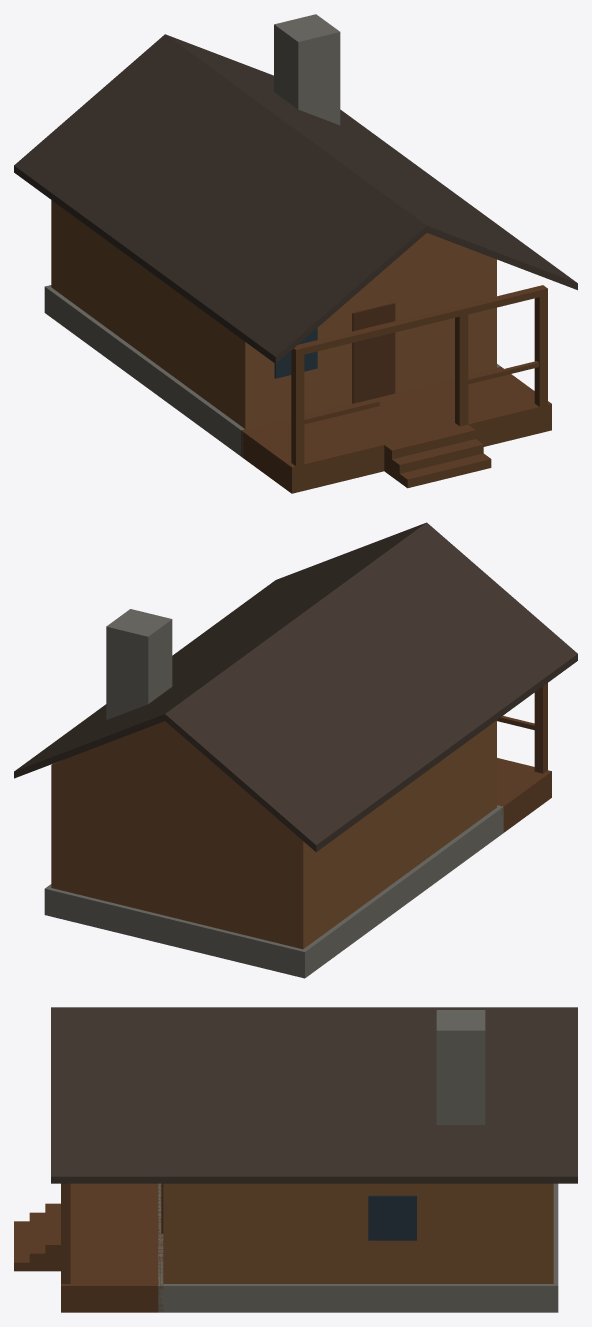
File: wp-cabin.glb
3 views of the same model, one above another, from view 1: azimuth 30°, elevation 25°; view 2: azimuth 150°, elevation 25°; view 3: azimuth 270°, elevation 25° (orthographic).
Parts seen in each view (by area): view 1: Roof, Walls, Porch, Base, Chimney, Door, PorchBeam, Step0, PorchPost0, Step1, PorchPost1, PorchPost2 (+3 smaller); view 2: Roof, Walls, Base, GableBack, Chimney, Porch, PorchPost0; view 3: Roof, Walls, Base, Porch, Chimney, WindowSide, Step0, Step1, PorchPost2, Step2.
Boxes of the visible parts, x1,y1,x2,y2 form: Roof: (14,34,577,363); Walls: (51,200,496,428); Porch: (241,367,551,493); Base: (44,285,500,457); Chimney: (274,14,340,125); Door: (352,303,395,403); PorchBeam: (291,285,547,356); Step0: (384,424,475,476); PorchPost0: (291,344,304,466); Step1: (384,439,483,482); PorchPost1: (455,306,468,426); PorchPost2: (534,285,547,406); Roof: (14,522,577,852); Walls: (51,720,496,949); Base: (44,805,503,978); GableBack: (52,721,279,820); Chimney: (106,609,172,719); Porch: (497,758,551,832); PorchPost0: (534,683,547,773); Roof: (51,1007,577,1183); Walls: (163,1183,553,1283); Base: (158,1183,558,1312); Porch: (61,1183,163,1312); Chimney: (436,1010,485,1124); WindowSide: (368,1195,416,1240); Step0: (45,1203,60,1271); Step1: (29,1212,60,1271); PorchPost2: (61,1183,70,1283); Step2: (14,1221,60,1271).
Size of the model in its own units: 7.2 by 6.1 by 11.56.
